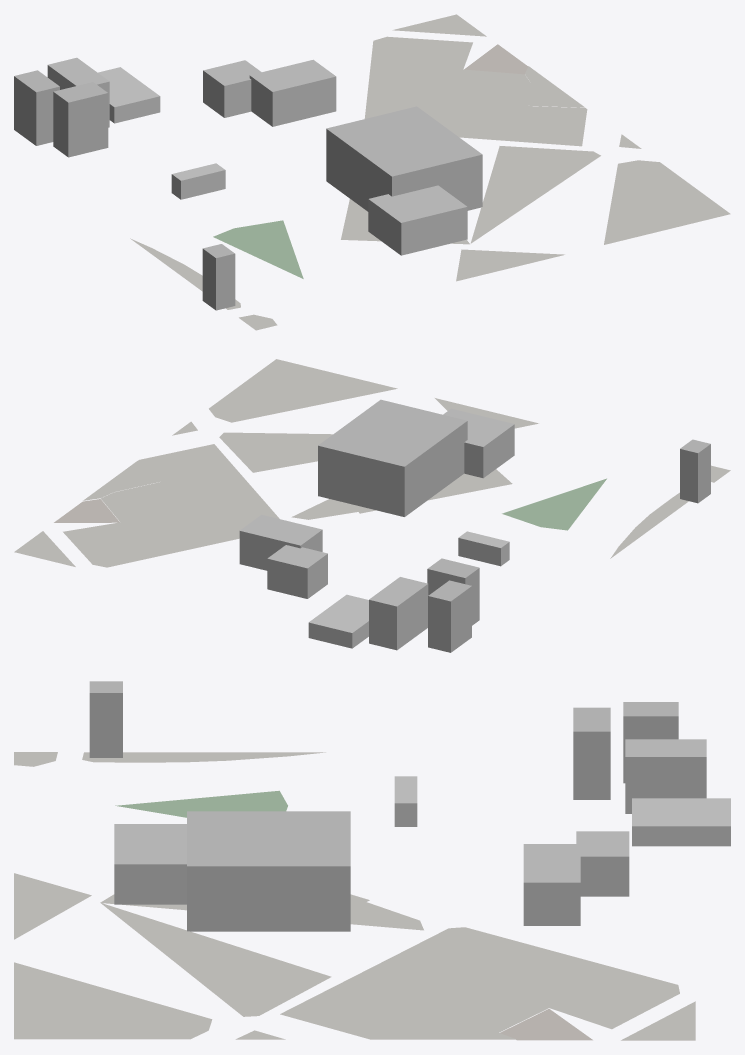
File: 105_89_mid.glb
3 renders of one model, top to bottom at view 1: azimuth 30°, elevation 25°; view 2: azimuth 150°, elevation 25°; view 3: azimuth 270°, elevation 25°, orthographic. The views are drawn at different scales.
Size of the model in its own units: 510 by 55.55 by 526.
